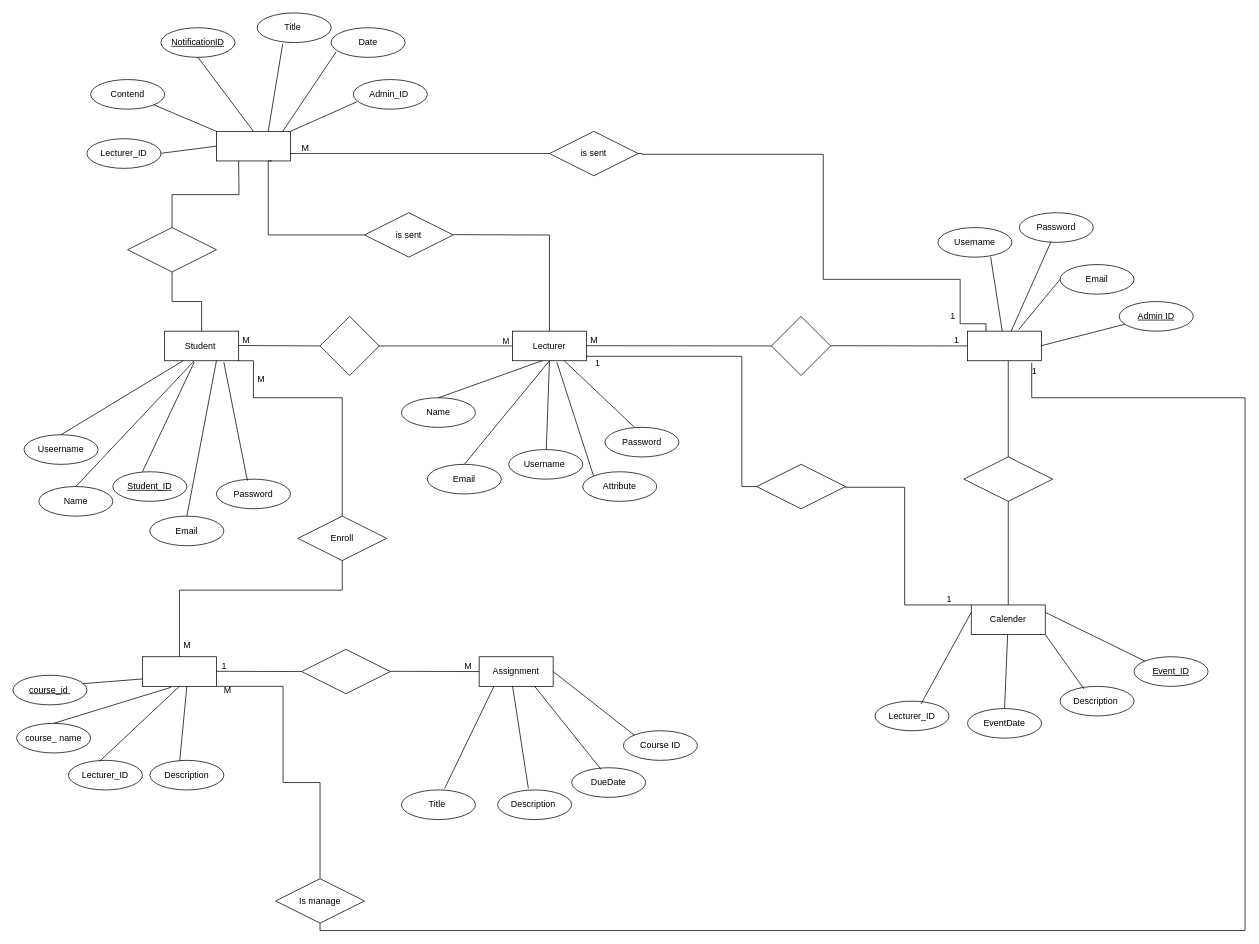
Image size: 1259x944. Some labels were removed from this diagram. Here are the shapes that lost their labels. From the top down, the box of each, then its label:
(216, 131, 290, 161): Notifications
(127, 227, 216, 272): Can be viewed
(319, 316, 379, 376): is teached
(771, 316, 831, 376): is assigned
(967, 330, 1042, 361): Admin
(756, 464, 845, 509): Maintains
(963, 456, 1053, 501): Edit
(142, 656, 216, 686): Course
(301, 649, 390, 694): Includes
